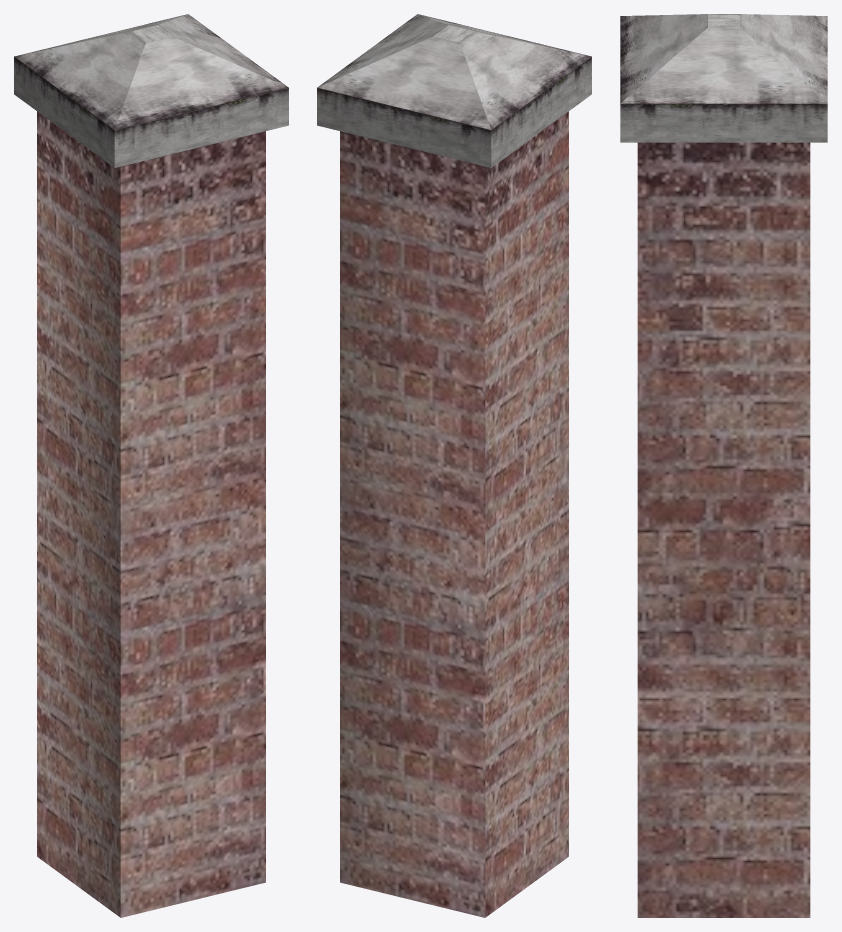
The model's file is Urban_BrickWallPole_Model.fbx.
3 renders of one model, left to right at view 1: azimuth 30°, elevation 25°; view 2: azimuth 150°, elevation 25°; view 3: azimuth 270°, elevation 25°, orthographic. The views are drawn at different scales.
Visible parts, largest first — view 1: Urban_BrickWallPole_Mesh; view 2: Urban_BrickWallPole_Mesh; view 3: Urban_BrickWallPole_Mesh.
Boxes of the visible parts, left/top/right/bottom form: Urban_BrickWallPole_Mesh: left=14, top=14, right=288, bottom=917; Urban_BrickWallPole_Mesh: left=317, top=14, right=591, bottom=917; Urban_BrickWallPole_Mesh: left=620, top=14, right=827, bottom=917.
Bounding box in the file's own units: 0.48 × 2.2 × 0.48.
